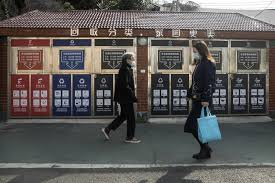mask: (188, 35, 214, 63), (119, 46, 139, 73)
